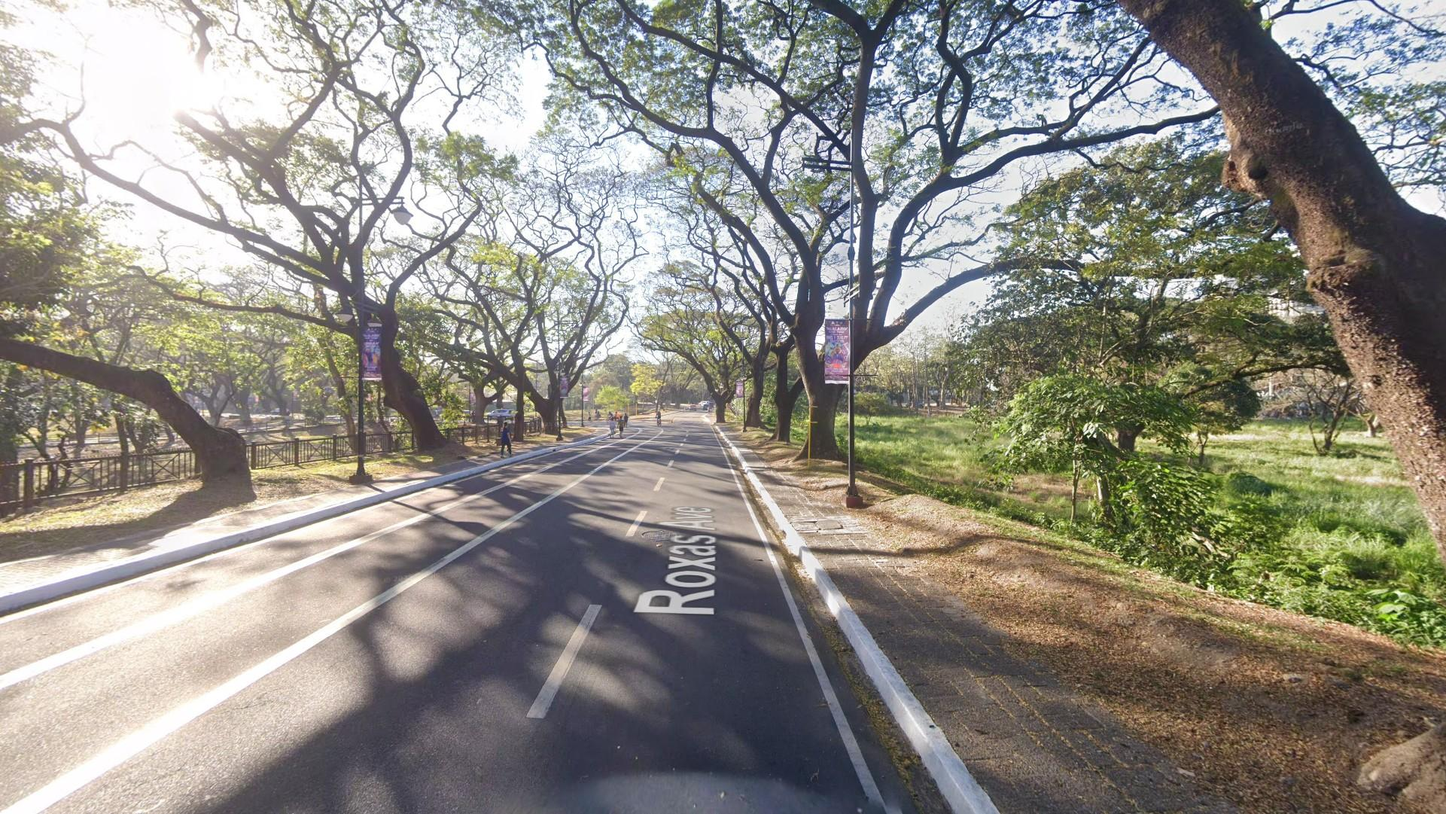cyclist: (655, 409, 663, 428), (612, 410, 620, 424), (605, 411, 613, 424)
pedestrian: (500, 421, 513, 460), (616, 415, 626, 438), (609, 416, 615, 439), (622, 413, 629, 429), (587, 410, 592, 424), (594, 407, 598, 420)
